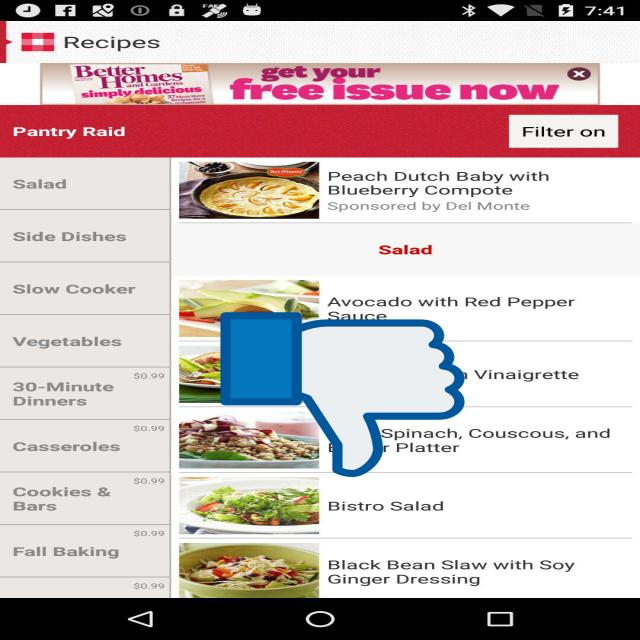obstruction: (220, 308, 464, 481)
